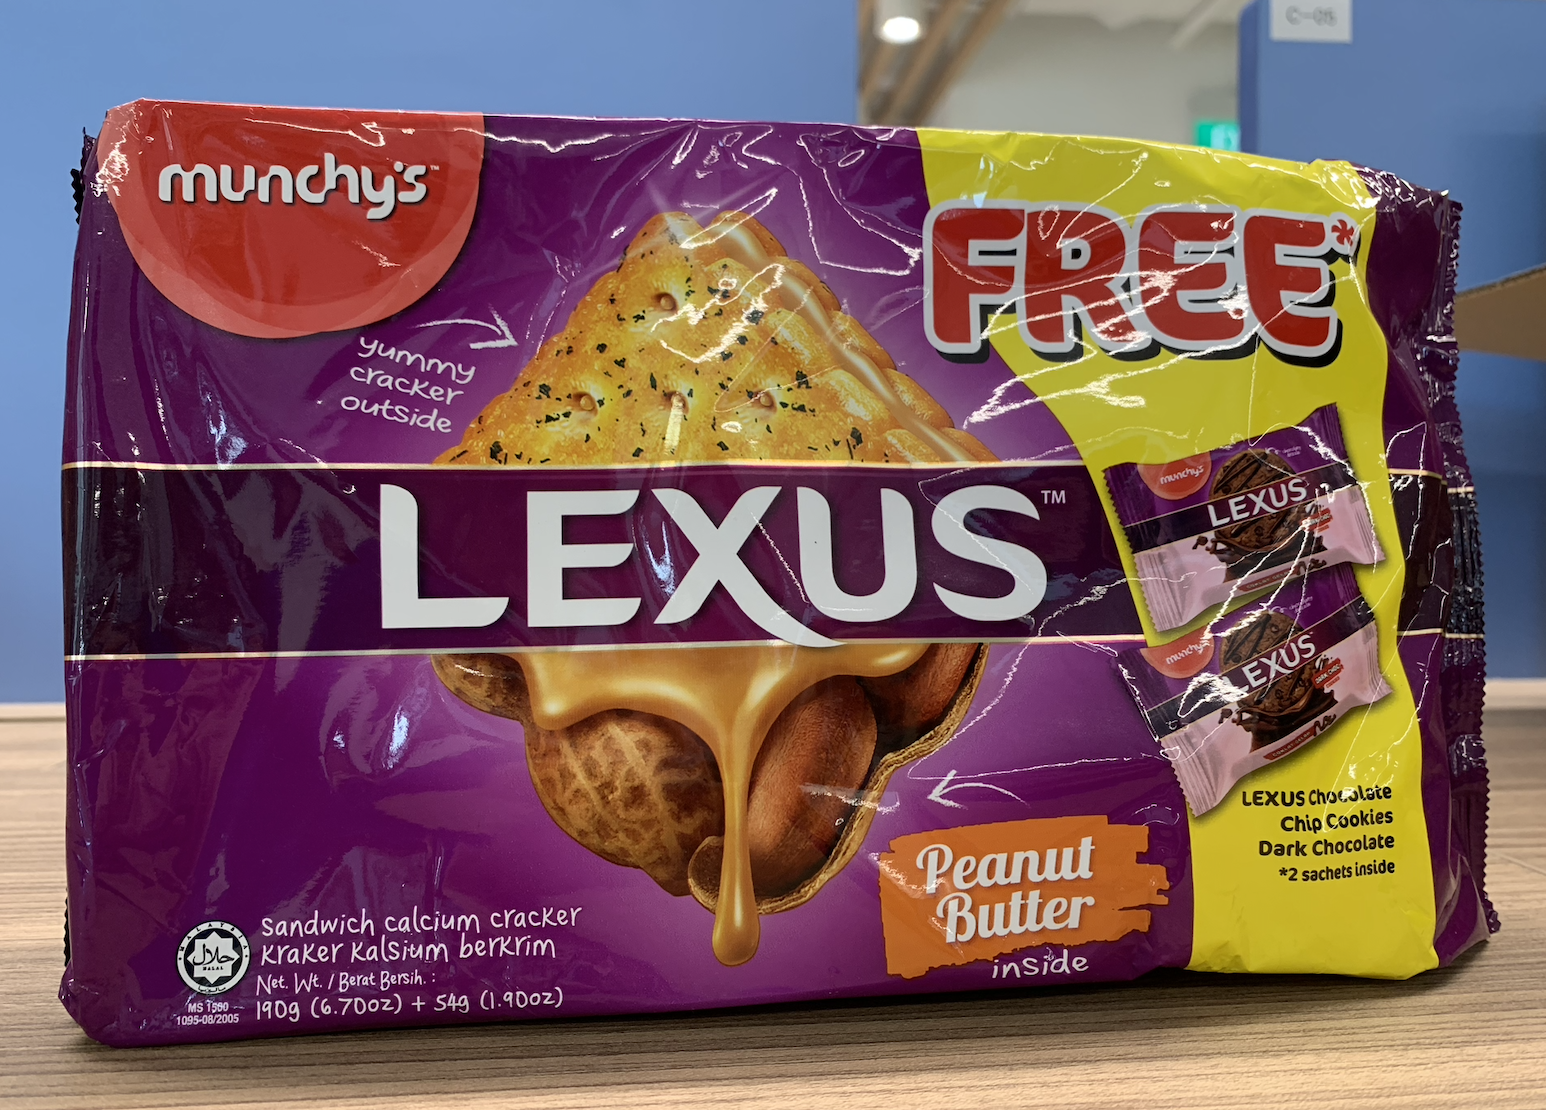cookies_100g-199g: (150, 151, 1376, 986)
